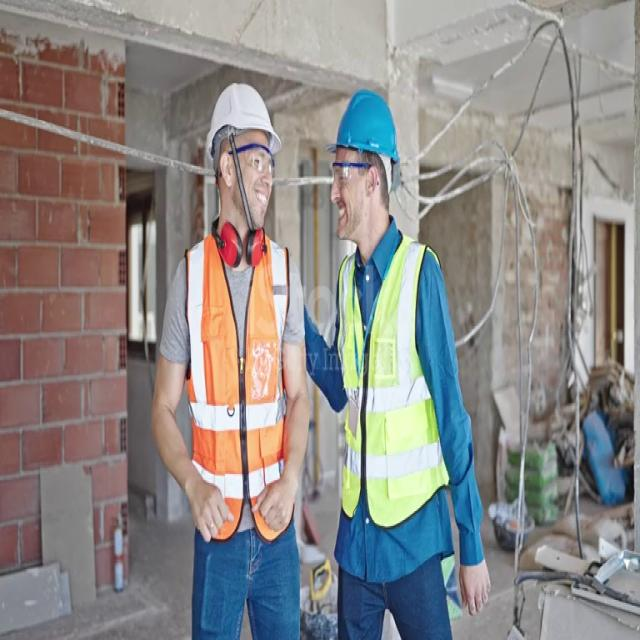capacete: (205, 64, 294, 180), (332, 83, 409, 198)
